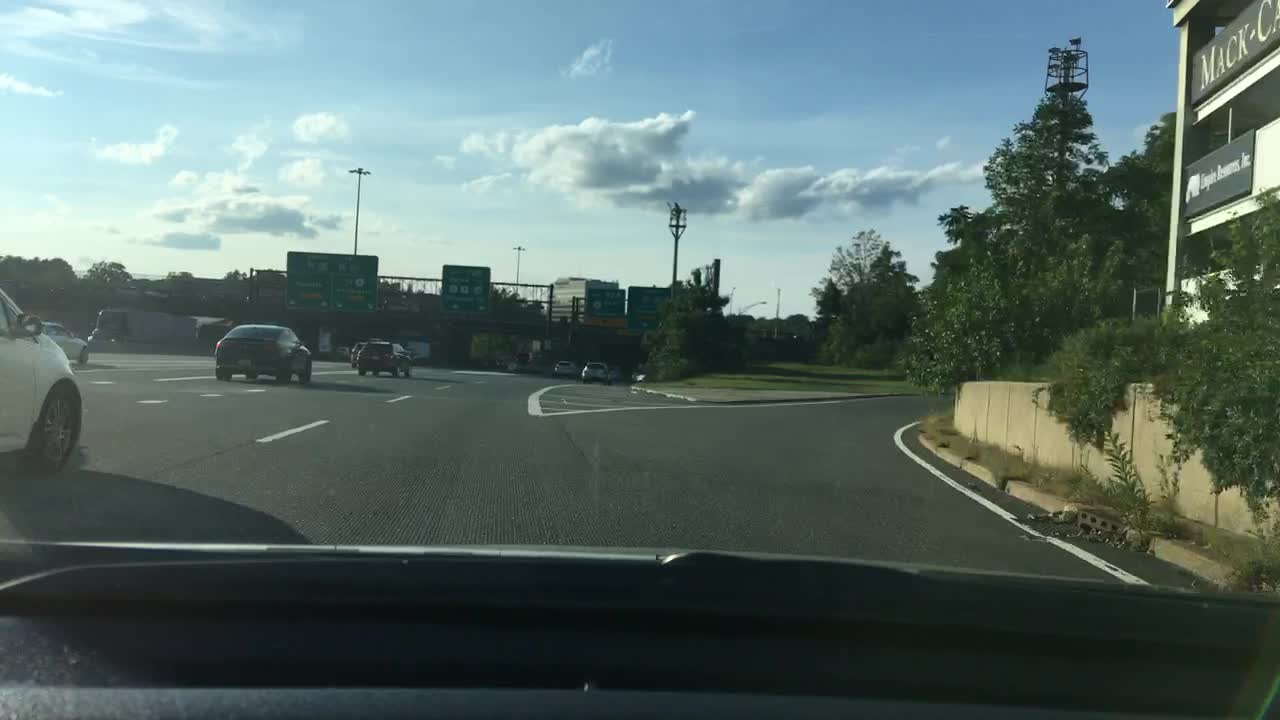car: (0, 285, 81, 476), (215, 323, 312, 385), (39, 320, 89, 365), (356, 339, 412, 376), (581, 361, 607, 384), (554, 358, 577, 378), (349, 341, 365, 364), (607, 364, 621, 383), (630, 369, 646, 384), (517, 351, 534, 365), (494, 356, 507, 371)
traffic sign: (286, 250, 379, 311), (441, 264, 491, 314), (627, 285, 670, 335), (586, 289, 622, 326), (708, 257, 721, 299)
truck: (87, 306, 224, 346)
